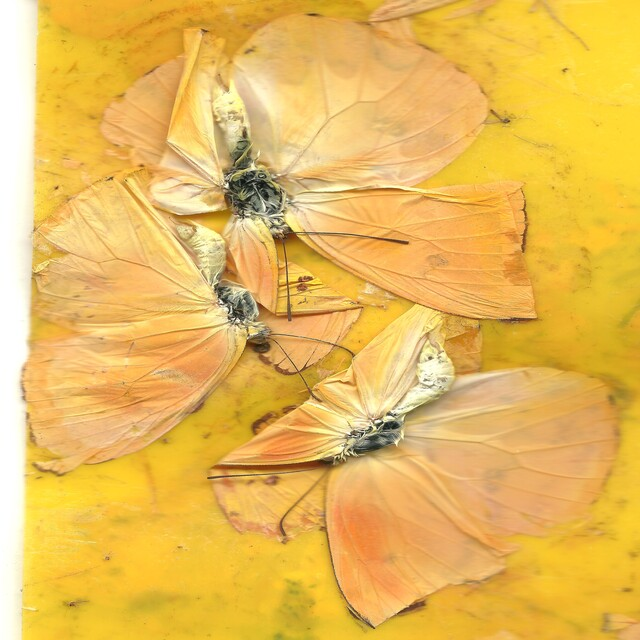Lepidoptera: (98, 12, 541, 324), (208, 303, 622, 628), (18, 168, 362, 477)
